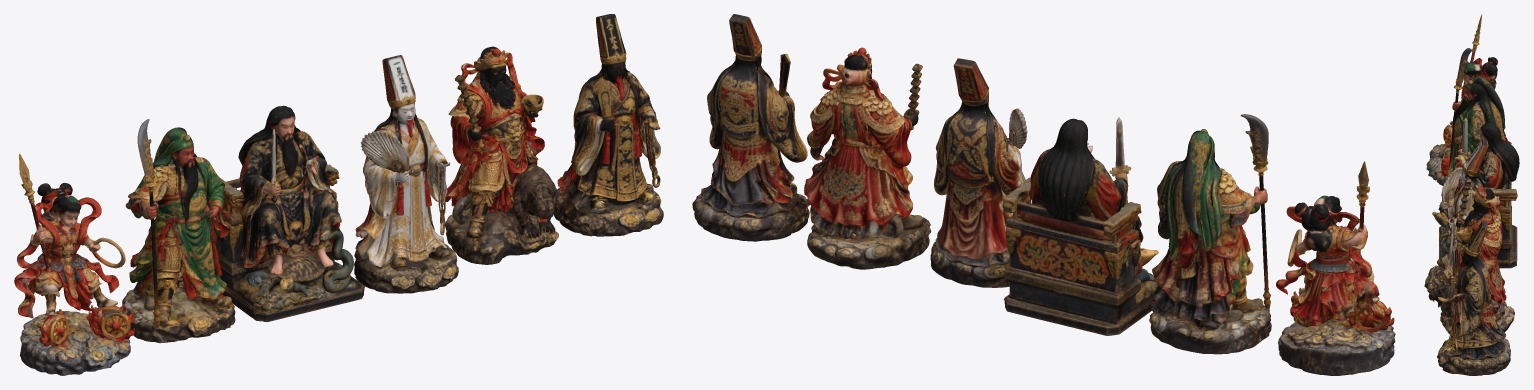
The model's file is taoistrow.glb.
3 views of the same model, side by side, from view 1: azimuth 30°, elevation 25°; view 2: azimuth 150°, elevation 25°; view 3: azimuth 270°, elevation 25° (orthographic). The views are drawn at different scales.
Visible parts, largest first — view 1: taoistrow_near, taoistrow_far; view 2: taoistrow_near, taoistrow_far; view 3: taoistrow_near, taoistrow_far.
Boxes of the visible parts, x1,y1,x2,y2 form: taoistrow_near: (14, 14, 663, 375); taoistrow_far: (15, 14, 661, 375); taoistrow_near: (692, 14, 1395, 375); taoistrow_far: (692, 18, 1394, 375); taoistrow_near: (1424, 14, 1519, 375); taoistrow_far: (1424, 15, 1518, 375).
Size of the model in its own units: 1.9 by 0.5973 by 0.3433.
1 material, 1 textured.
